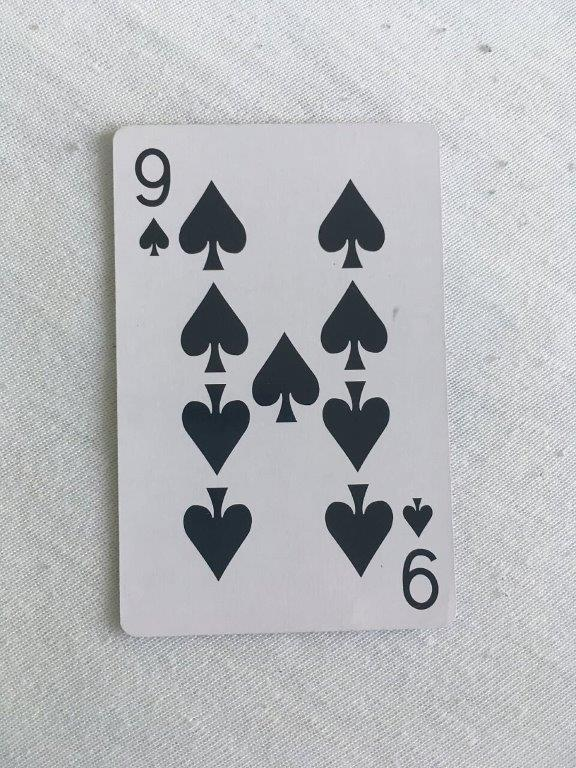9S: (109, 119, 459, 641)
